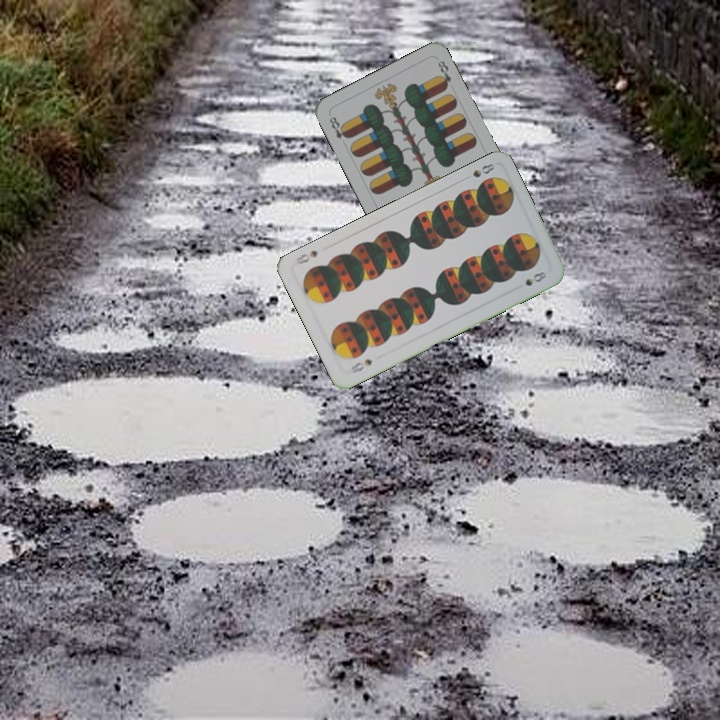E8: (325, 112, 352, 142)
S8: (459, 159, 497, 183), (347, 355, 374, 376)
